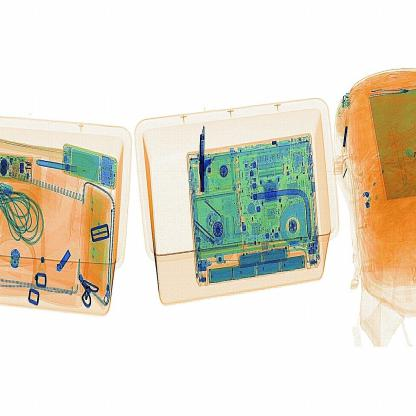pliers: (192, 126, 214, 199)
